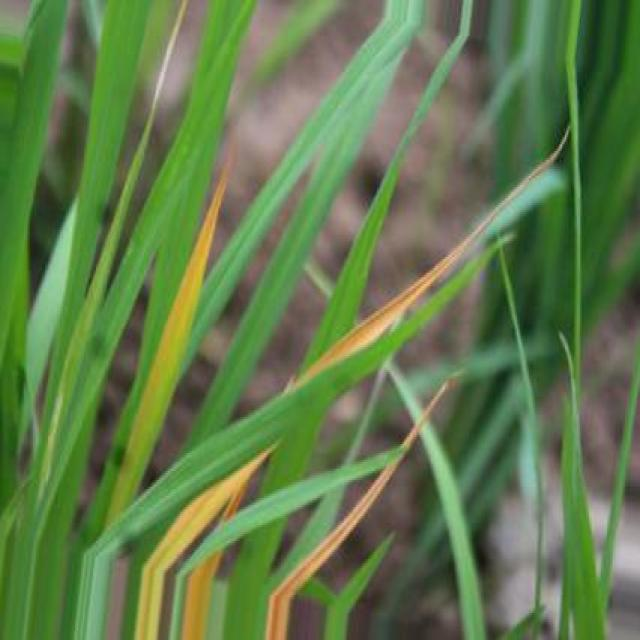Rice Tungro: (285, 138, 566, 391), (266, 384, 446, 638), (108, 163, 228, 526), (135, 450, 271, 638)
